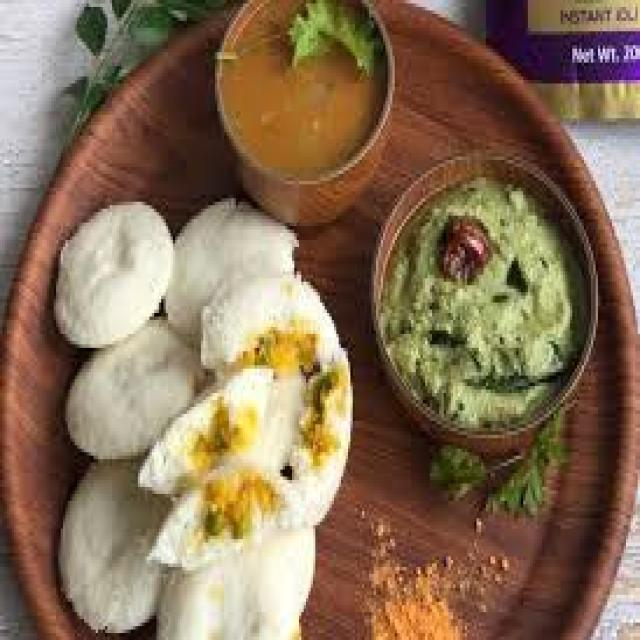IDLI: (140, 365, 311, 490), (65, 317, 203, 456), (61, 459, 171, 630), (164, 198, 294, 341), (156, 529, 313, 637), (58, 202, 171, 344), (280, 348, 350, 522)
